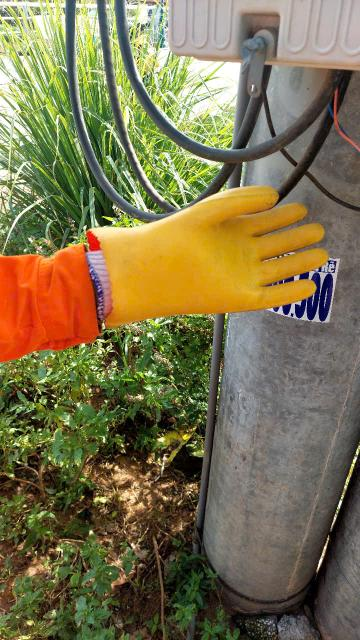gloves: (56, 187, 340, 343)
